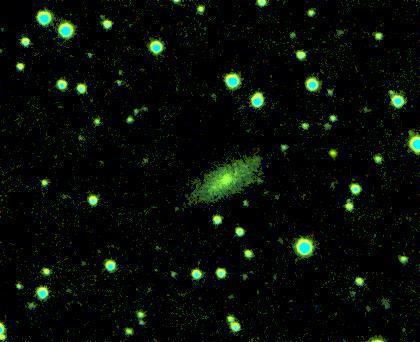star: (316, 141, 346, 171)
